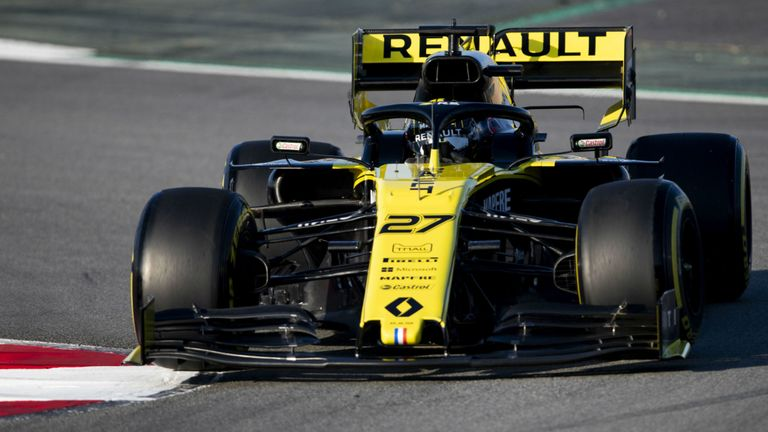f1_car: (115, 13, 761, 387)
